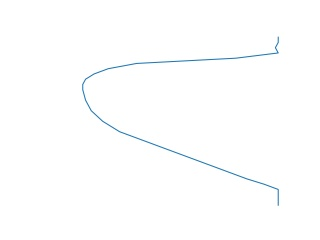beach: (77, 38, 286, 206)
